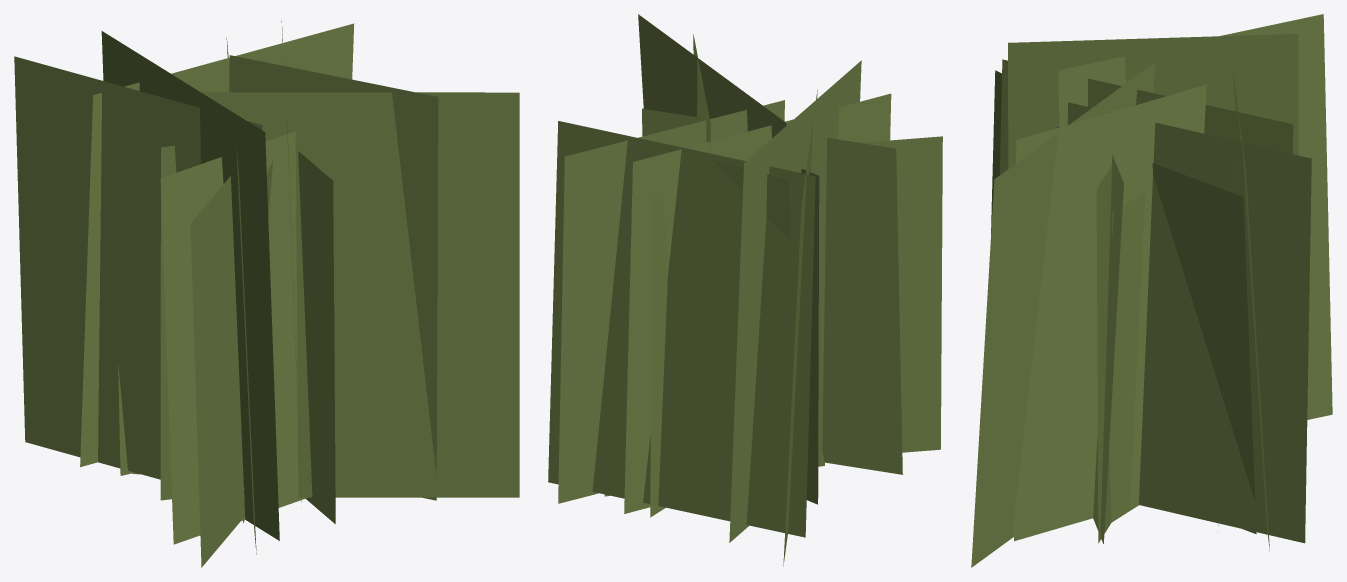
File: bush-v1.glb
The picture shows the model from 3 angles, left to right: view 1: azimuth 30°, elevation 25°; view 2: azimuth 150°, elevation 25°; view 3: azimuth 270°, elevation 25°; orthographic projection. The views are drawn at different scales.
Parts seen in each view (by area): view 1: bush-v1; view 2: bush-v1; view 3: bush-v1.
Part boxes in pixels (x1,y1,x2,y2): bush-v1: [14, 20, 519, 567]; bush-v1: [548, 14, 942, 566]; bush-v1: [971, 14, 1332, 567].
Bounding box in the file's own units: 1.5 × 1.75 × 1.38.
